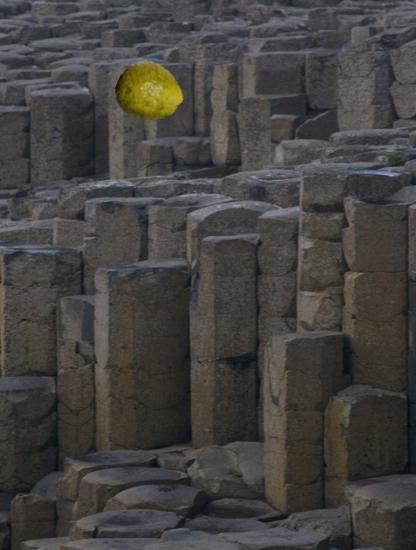Guava: (116, 59, 184, 127)
